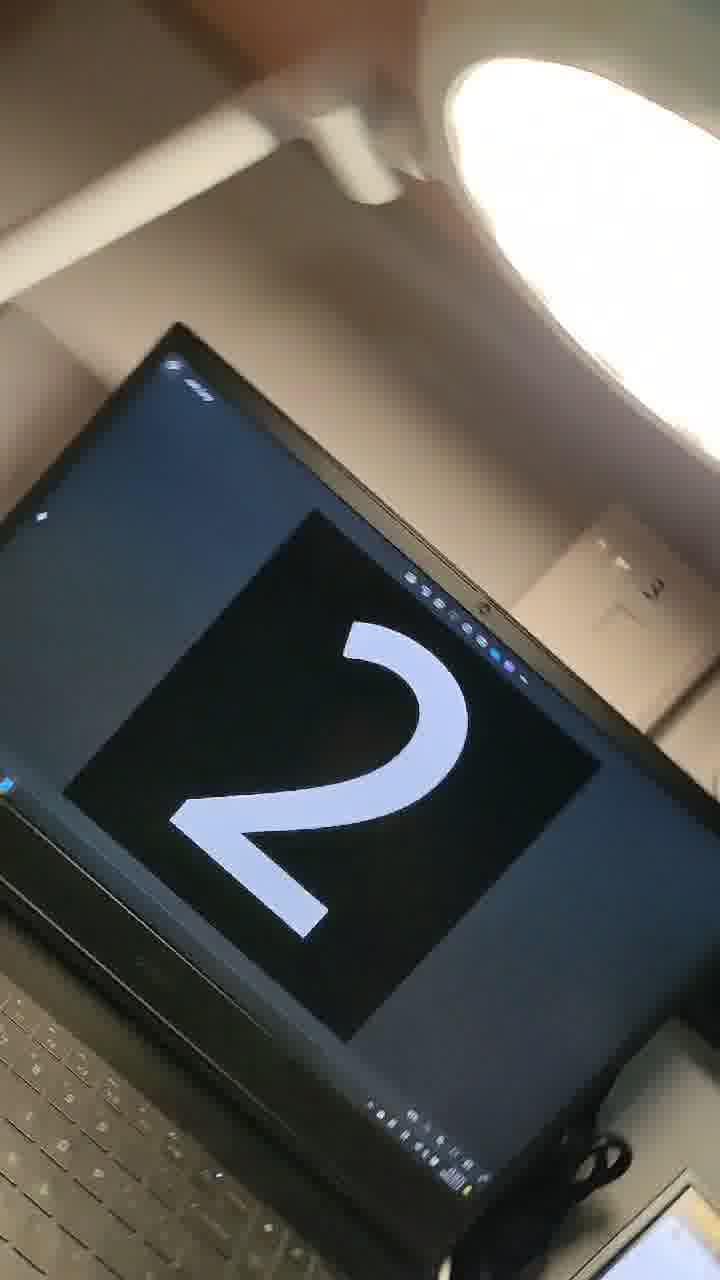two: (155, 542, 441, 929)
